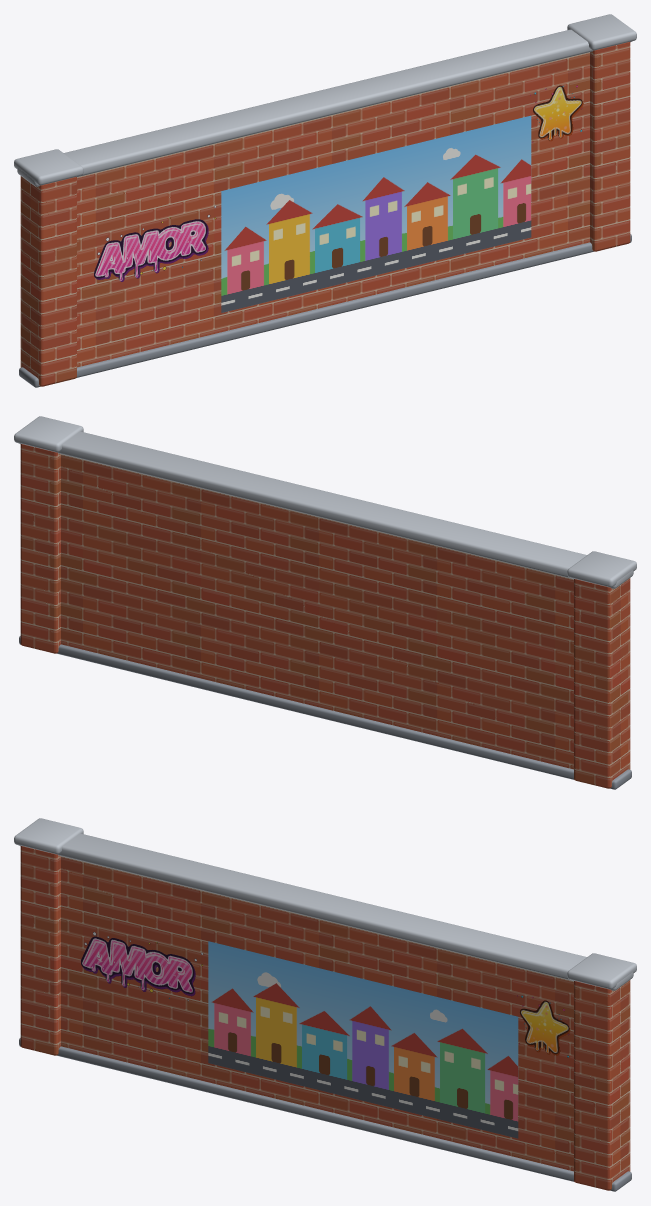
The model's file is muro_tijolo_casinhas.glb.
The picture shows the model from 3 angles, top to bottom: view 1: azimuth 30°, elevation 25°; view 2: azimuth 150°, elevation 25°; view 3: azimuth 330°, elevation 25°; orthographic projection.
Parts seen in each view (by area): view 1: muro_tijolo_casinhas; view 2: muro_tijolo_casinhas; view 3: muro_tijolo_casinhas.
Part boxes in pixels (box(x1,y1,x2,y2)): muro_tijolo_casinhas: box(14, 14, 636, 387); muro_tijolo_casinhas: box(14, 416, 636, 789); muro_tijolo_casinhas: box(14, 818, 636, 1191).
Size of the model in its own units: 8.12 by 2.78 by 0.62.
Materials: 5 (5 with a texture image).
